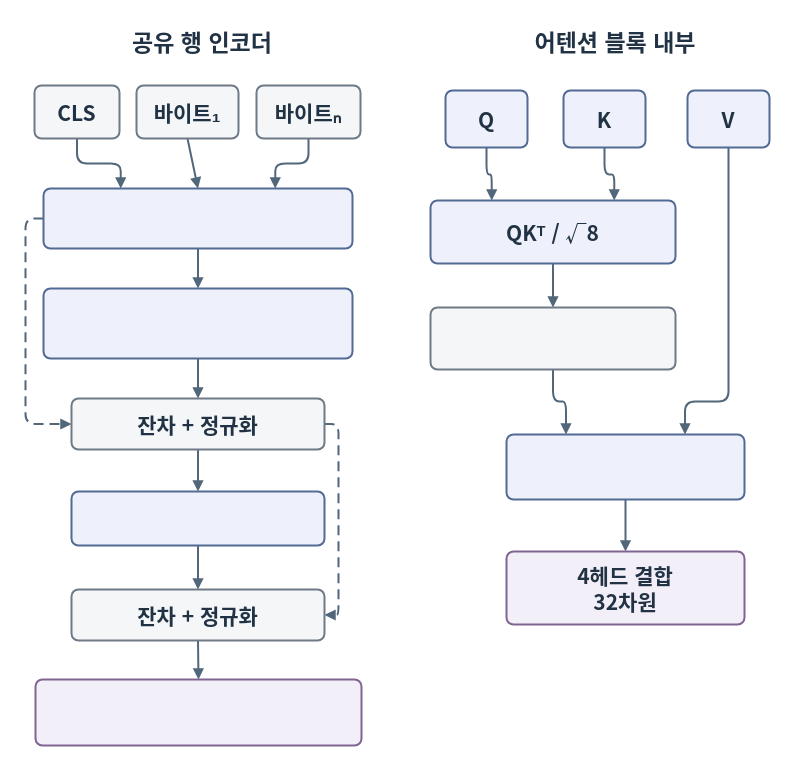
Image size: 806x763. Some labels were removed from this diagram. The centre of each missing label's shape, as x and y in pixels:
CLS + 행 메타데이터: point (198, 712)
GELU FFN: point (197, 518)
가중치 × V: point (625, 466)
마스크 · 소프트맥스: point (552, 338)
마스킹 셀프 어텐션: point (197, 323)
토큰 + 위치: point (197, 218)
